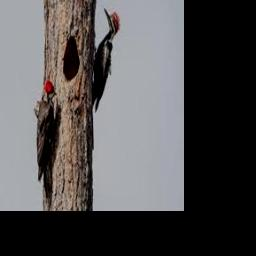Woodpecker: (92, 6, 120, 111), (36, 80, 58, 210)
